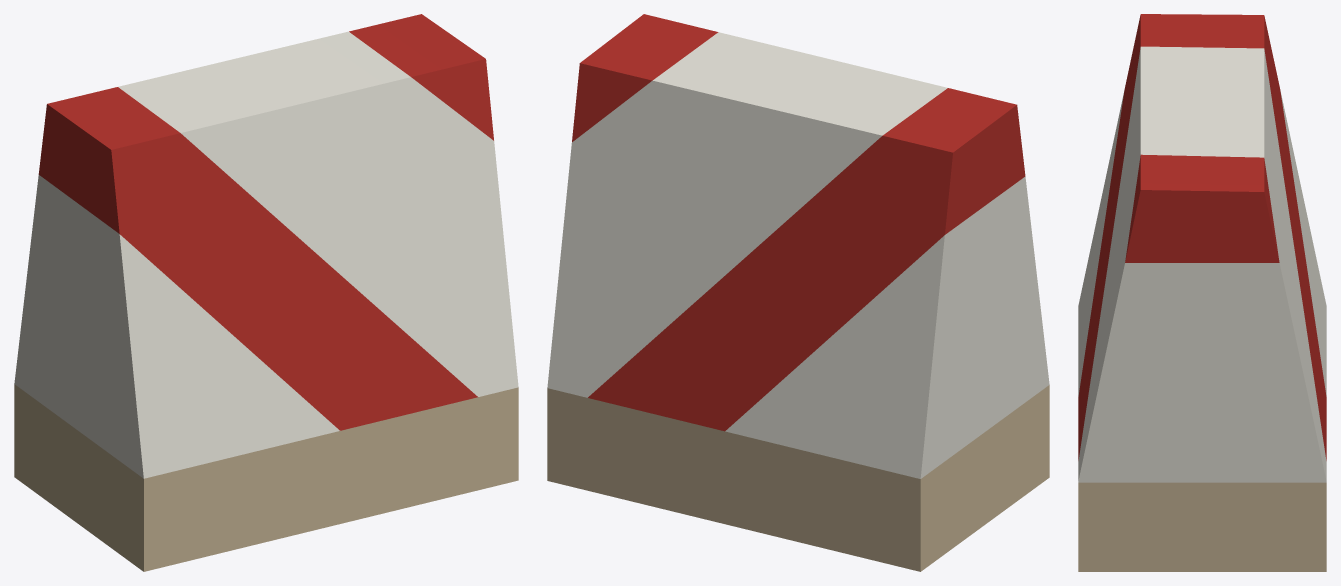
Rendered from blockade1.fbx.
The picture shows the model from 3 angles, left to right: view 1: azimuth 30°, elevation 25°; view 2: azimuth 150°, elevation 25°; view 3: azimuth 270°, elevation 25°; orthographic projection. The views are drawn at different scales.
Visible parts, largest first — view 1: blockade1; view 2: blockade1; view 3: blockade1.
Part boxes in pixels (x1=…): blockade1: x1=14, y1=14, x2=518, y2=571; blockade1: x1=547, y1=14, x2=1049, y2=571; blockade1: x1=1078, y1=14, x2=1326, y2=571.
Size of the model in its own units: 100 by 102 by 59.84.
